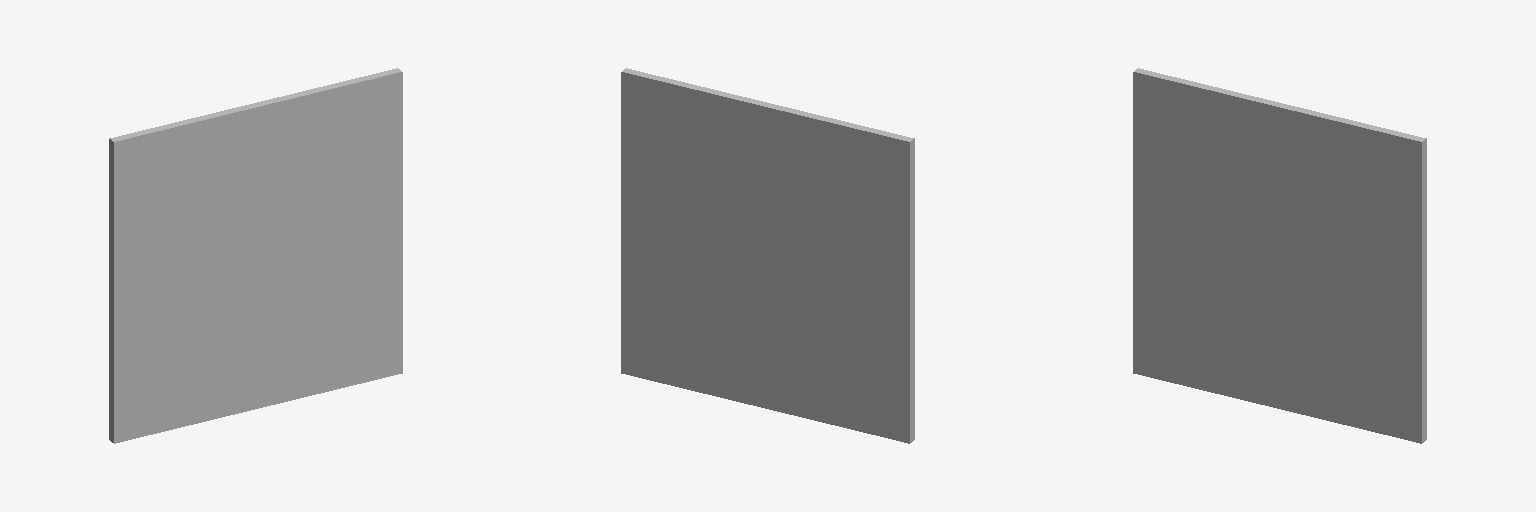
The model's file is flatSurface.obj.
3 views of the same model, side by side, from view 1: azimuth 30°, elevation 25°; view 2: azimuth 150°, elevation 25°; view 3: azimuth 330°, elevation 25° (orthographic).
Parts seen in each view (by area): view 1: Plane_Plane.001; view 2: Plane_Plane.001; view 3: Plane_Plane.001.
Part boxes in pixels (left/top/right/bottom): Plane_Plane.001: left=109, top=68, right=402, bottom=443; Plane_Plane.001: left=621, top=68, right=914, bottom=443; Plane_Plane.001: left=1133, top=68, right=1426, bottom=443.
Bounding box in the file's own units: 1.03 × 1.03 × 0.0299.